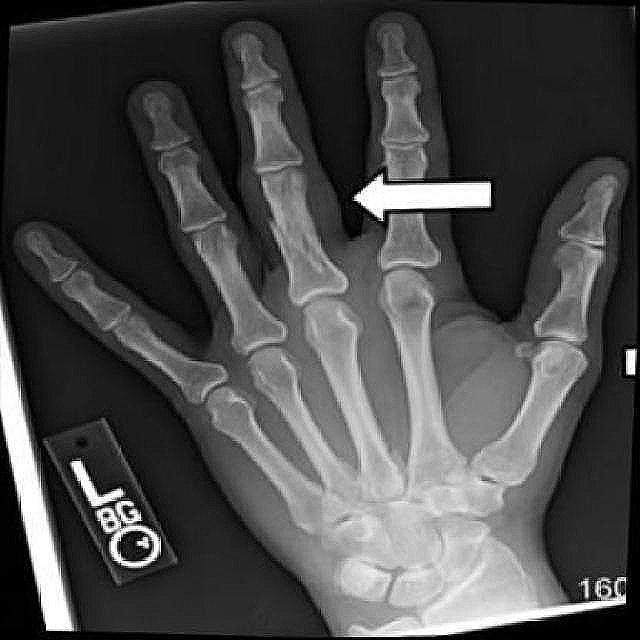bone: (266, 204, 328, 275)
